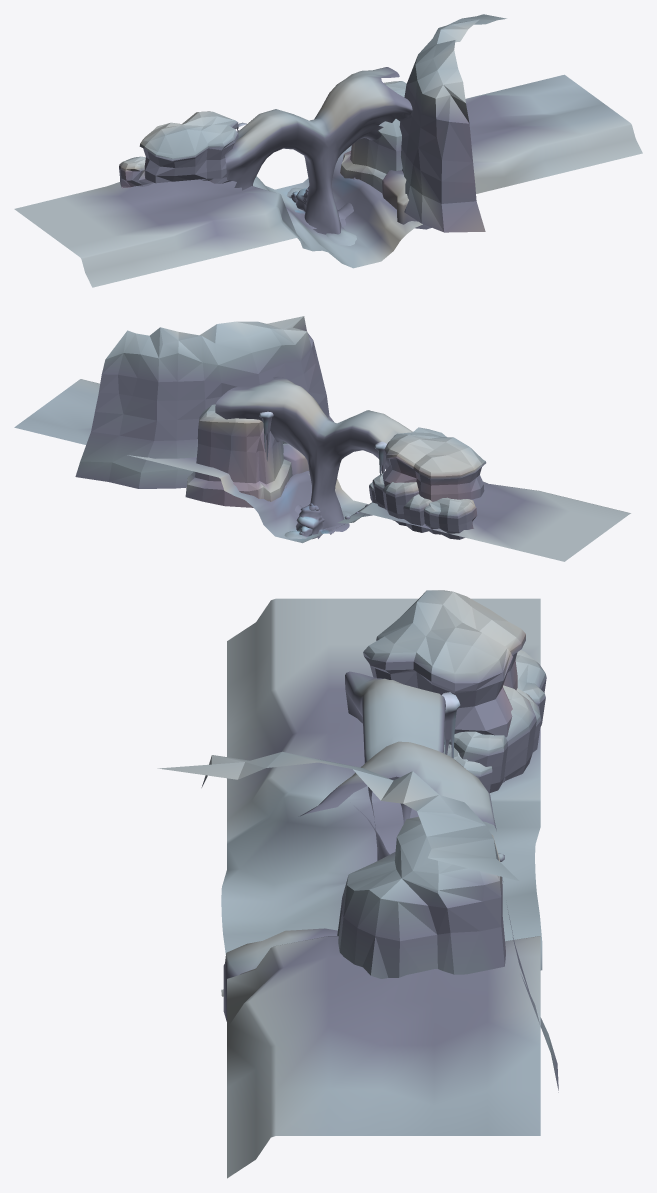
File: Arctic_Luge_Straight_CenterObstacle_A.glb
3 views of the same model, one above another, from view 1: azimuth 30°, elevation 25°; view 2: azimuth 150°, elevation 25°; view 3: azimuth 270°, elevation 25° (orthographic). The views are drawn at different scales.
Visible parts, largest first — view 1: Arctic_Luge_Straight_CenterObstacle_A, Arctic_Luge_IceWall_prop, Arctic_Luge_MediumRock_prop, Arctic_Luge_TallIceRock_prop, Arctic_Luge_SmallRock_prop (3); view 2: Arctic_Luge_Straight_CenterObstacle_A, Arctic_Luge_IceWall_prop, Arctic_Luge_TallIceRock_prop, Arctic_Luge_MediumRock_prop, Arctic_Luge_SmallRock_prop (3), Arctic_Luge_SmallRock_prop (2), Arctic_Luge_SmallRock_prop (1); view 3: Arctic_Luge_Straight_CenterObstacle_A, Arctic_Luge_TallIceRock_prop, Arctic_Luge_MediumRock_prop, Arctic_Luge_IceWall_prop, Arctic_Luge_SmallRock_prop (2), Arctic_Luge_SmallRock_prop (3).
Part boxes in pixels (x1,y1,x2,y2): Arctic_Luge_Straight_CenterObstacle_A: [14, 67, 642, 287]; Arctic_Luge_IceWall_prop: [399, 14, 506, 232]; Arctic_Luge_MediumRock_prop: [139, 111, 238, 183]; Arctic_Luge_TallIceRock_prop: [340, 81, 406, 192]; Arctic_Luge_SmallRock_prop (3): [119, 156, 153, 188]; Arctic_Luge_Straight_CenterObstacle_A: [14, 376, 630, 561]; Arctic_Luge_IceWall_prop: [75, 316, 333, 488]; Arctic_Luge_TallIceRock_prop: [185, 404, 292, 507]; Arctic_Luge_MediumRock_prop: [382, 427, 486, 501]; Arctic_Luge_SmallRock_prop (3): [424, 497, 477, 539]; Arctic_Luge_SmallRock_prop (2): [372, 473, 418, 522]; Arctic_Luge_SmallRock_prop (1): [396, 494, 432, 532]; Arctic_Luge_Straight_CenterObstacle_A: [221, 598, 542, 1178]; Arctic_Luge_TallIceRock_prop: [337, 816, 505, 978]; Arctic_Luge_MediumRock_prop: [363, 590, 525, 737]; Arctic_Luge_IceWall_prop: [157, 751, 558, 1092]; Arctic_Luge_SmallRock_prop (2): [444, 685, 536, 792]; Arctic_Luge_SmallRock_prop (3): [515, 650, 546, 727].
Size of what is drawn, in the model's own units: 25.98 by 8.04 by 9.93.
